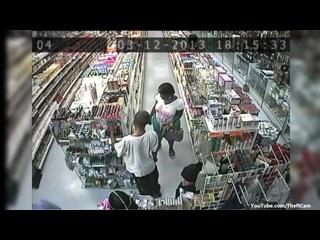Normal: (109, 110, 162, 198), (152, 82, 184, 160)
